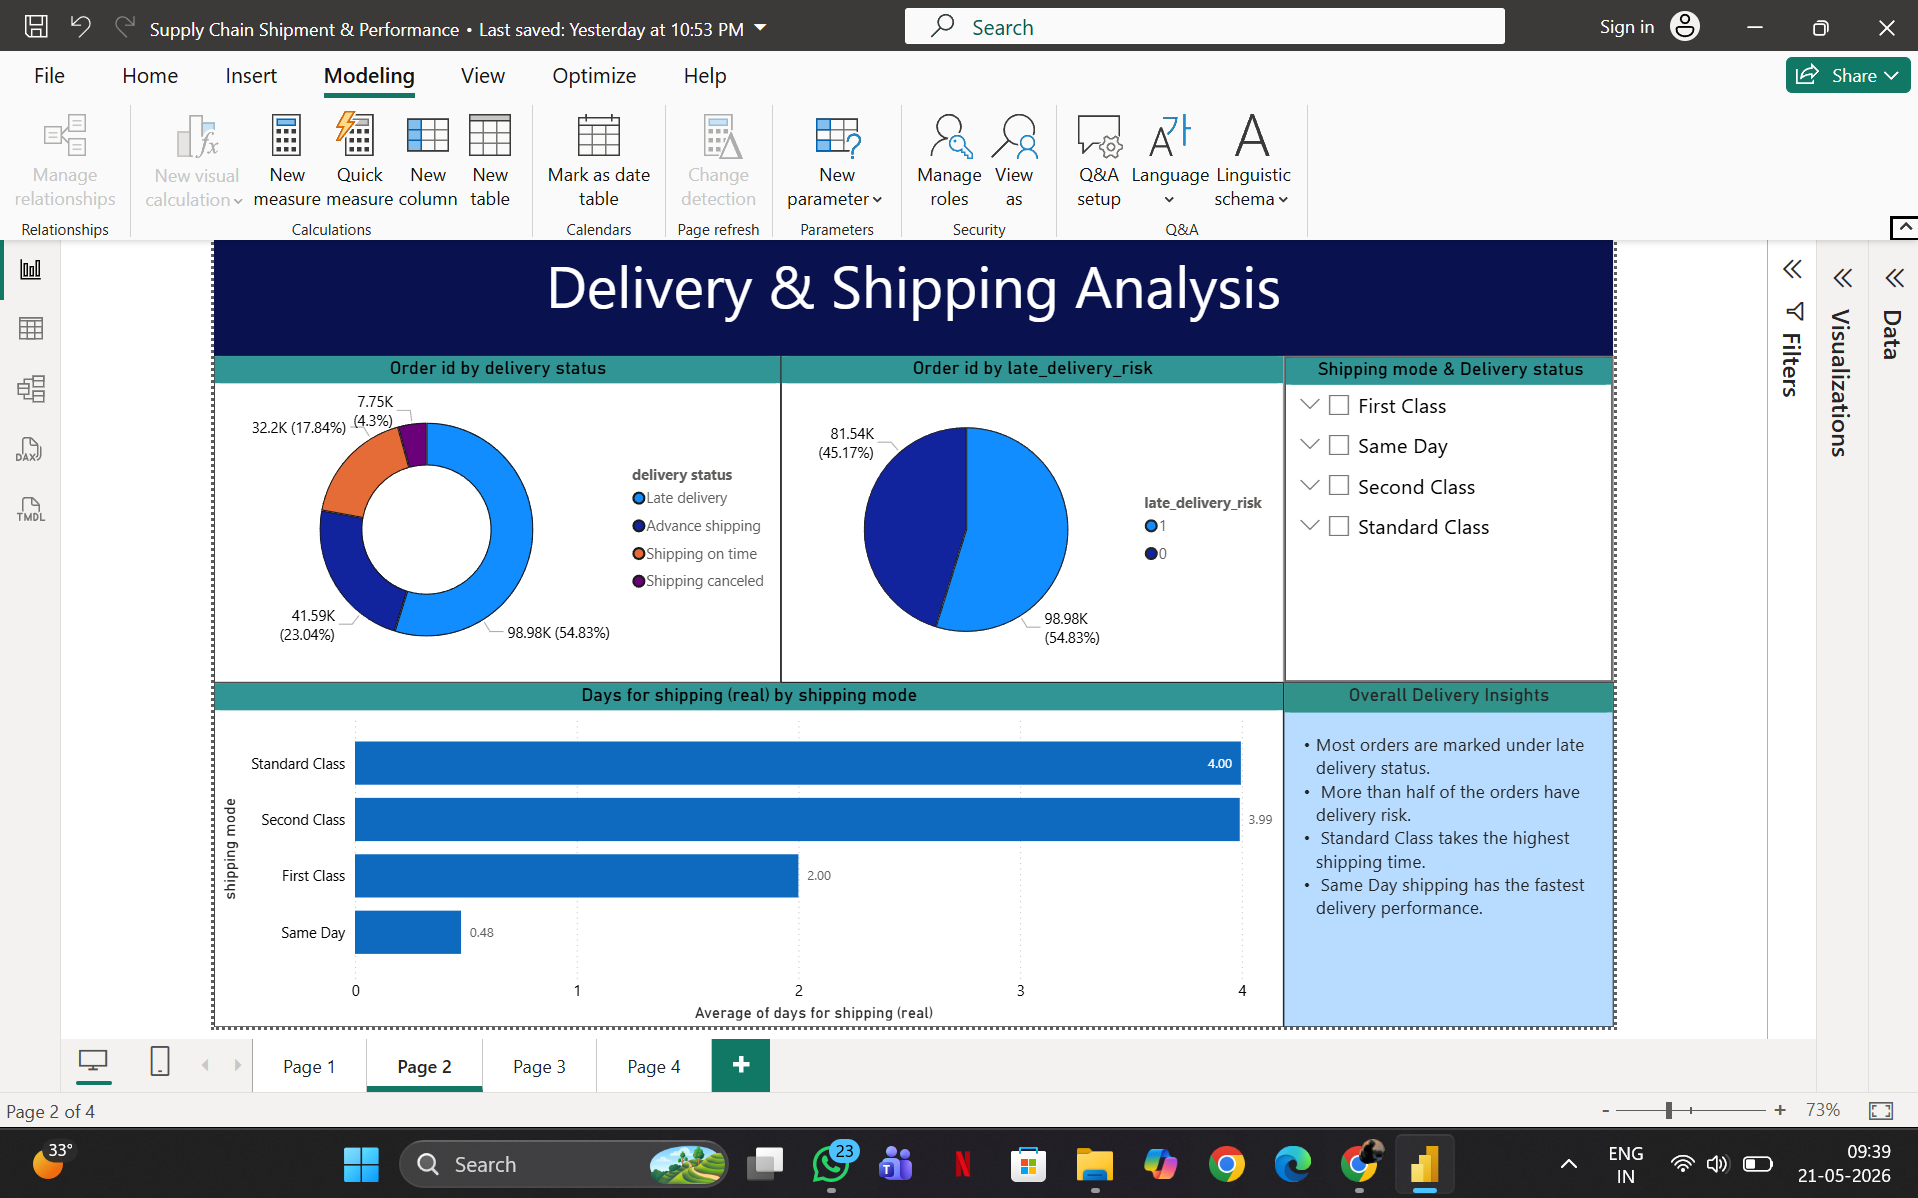

This screenshot's page, from the dashboard's own definition file:
{"tool":"powerbi","page":{"name":"Page 2","canvas":[1280,720],"ordinal":1},"visuals":[{"type":"donutChart","title":"Order id by delivery status","fields":{"Category":["cleaned_supply_chain.delivery status"],"Y":["CountNonNull(cleaned_supply_chain.order id)"]},"box":[0,105.7,518.7,299.2],"z":0},{"type":"barChart","title":"Days for shipping (real) by shipping mode","fields":{"Category":["cleaned_supply_chain.shipping mode"],"Y":["Avg(cleaned_supply_chain.days for shipping (real))"]},"box":[0,404.8,978.5,315.6],"z":1000},{"type":"pieChart","title":" Order id by late_delivery_risk","fields":{"Y":["CountNonNull(cleaned_supply_chain.order id)"],"Category":["cleaned_supply_chain.late_delivery_risk"]},"box":[518.7,105.7,459.7,299.2],"z":2000},{"type":"slicer","title":"Shipping mode & Delivery status ","fields":{"Values":["cleaned_supply_chain.shipping mode","cleaned_supply_chain.delivery status"]},"box":[978.5,105.7,301.9,299.2],"z":3000},{"type":"textbox","box":[0,0,1280,105.7],"z":4000},{"type":"textbox","title":"Overall Delivery Insights","box":[978.5,404.8,301.9,315.6],"z":4001}]}

Visuals, with their boxes on the page's 1280x720 design canvas (x1, y1, x2, y2). These are canvas units, not pixel positions in the 1918x1198 screenshot, which may show the page scaled, cropped or inside an application window:
"Order id by delivery status" donutChart: {"x1": 0, "y1": 106, "x2": 519, "y2": 405}
"Days for shipping (real) by shipping mode" barChart: {"x1": 0, "y1": 405, "x2": 978, "y2": 720}
" Order id by late_delivery_risk" pieChart: {"x1": 519, "y1": 106, "x2": 978, "y2": 405}
"Shipping mode & Delivery status " slicer: {"x1": 978, "y1": 106, "x2": 1280, "y2": 405}
textbox: {"x1": 0, "y1": 0, "x2": 1280, "y2": 106}
"Overall Delivery Insights" textbox: {"x1": 978, "y1": 405, "x2": 1280, "y2": 720}
